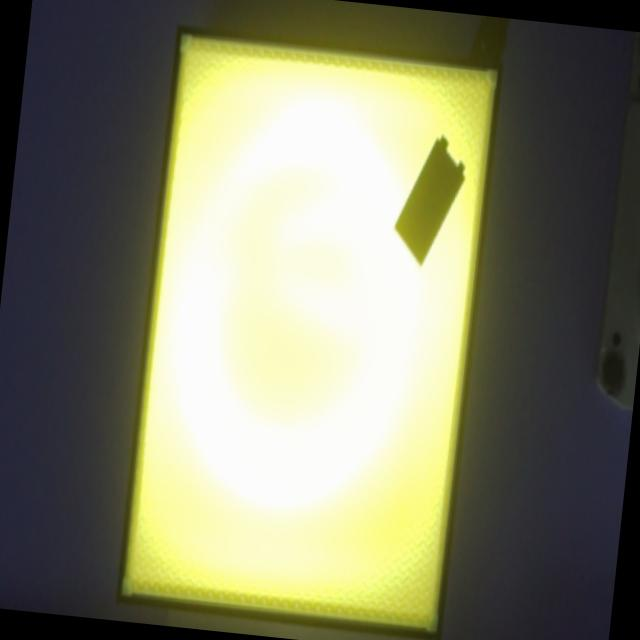bateria: (393, 135, 465, 268)
mesa: (115, 24, 503, 640)
